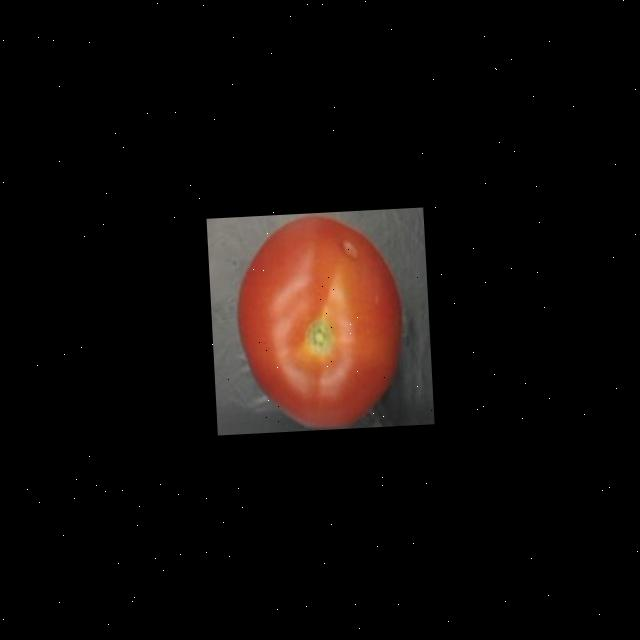tomato: (229, 207, 415, 431)
